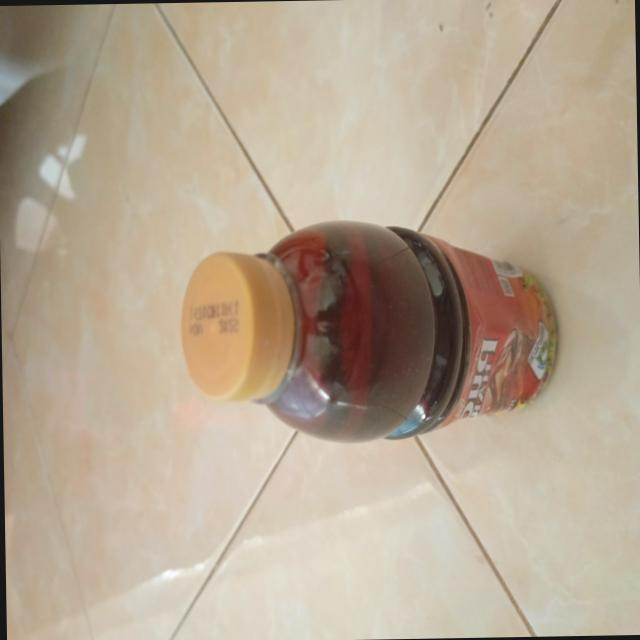teh-pucuk: (175, 218, 562, 444)
